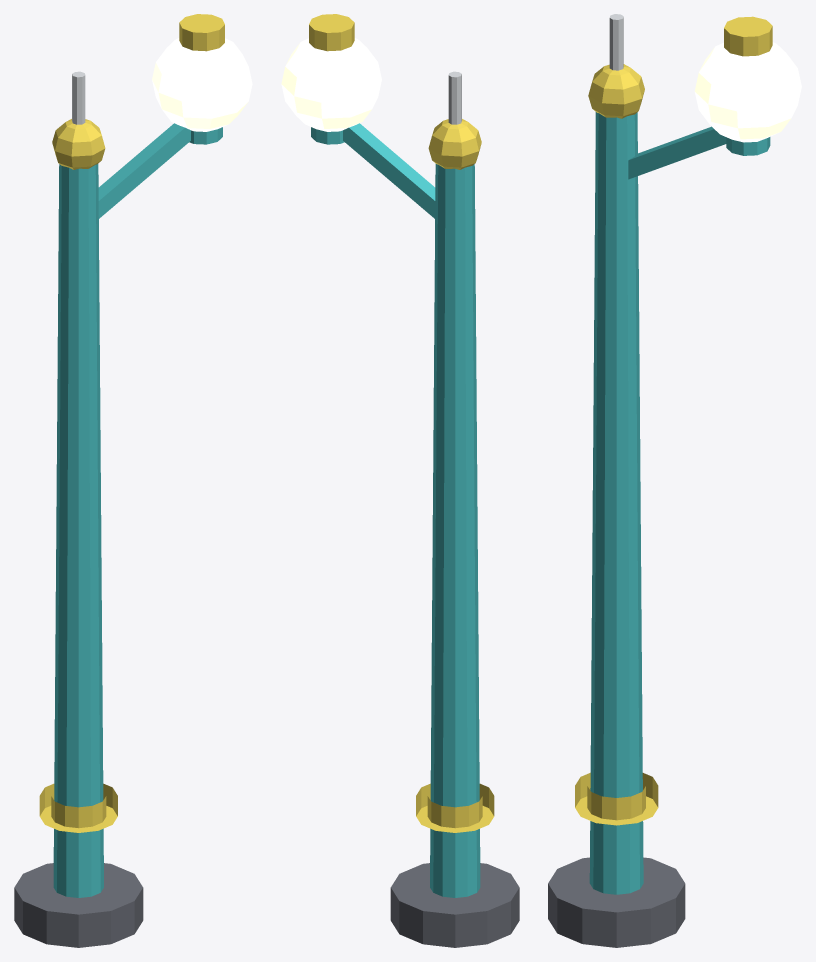
The model's file is theme-park-rides-and-coasters-theme-park-rides-and-coa-da035fb9__28705.glb.
3 views of the same model, side by side, from view 1: azimuth 30°, elevation 25°; view 2: azimuth 150°, elevation 25°; view 3: azimuth 330°, elevation 25° (orthographic). The views are drawn at different scales.
Visible parts, largest first — view 1: theme-park-rides-and-coasters-lamp-post-single; view 2: theme-park-rides-and-coasters-lamp-post-single; view 3: theme-park-rides-and-coasters-lamp-post-single.
Part boxes in pixels (bbox=[...]): theme-park-rides-and-coasters-lamp-post-single: bbox=[14, 14, 252, 947]; theme-park-rides-and-coasters-lamp-post-single: bbox=[281, 14, 519, 947]; theme-park-rides-and-coasters-lamp-post-single: bbox=[548, 14, 801, 947].
Bounding box in the file's own units: 1.12 × 4.16 × 0.56.
